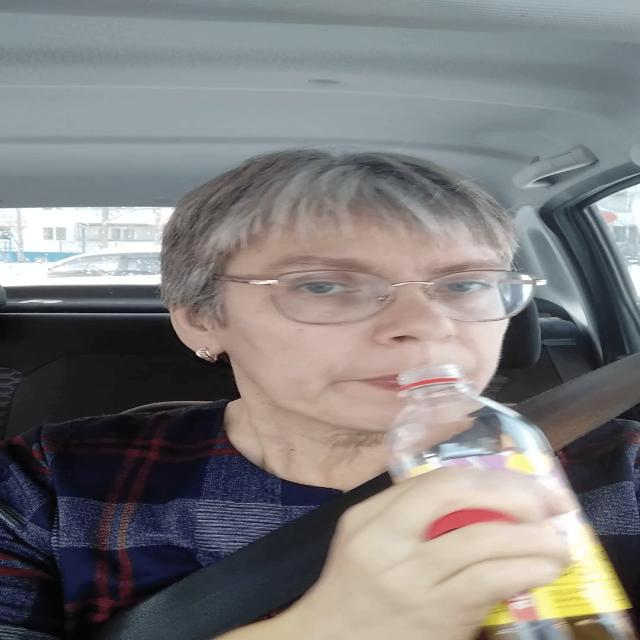3: (91, 357, 640, 639)
Seatbelt: (404, 357, 608, 633)
